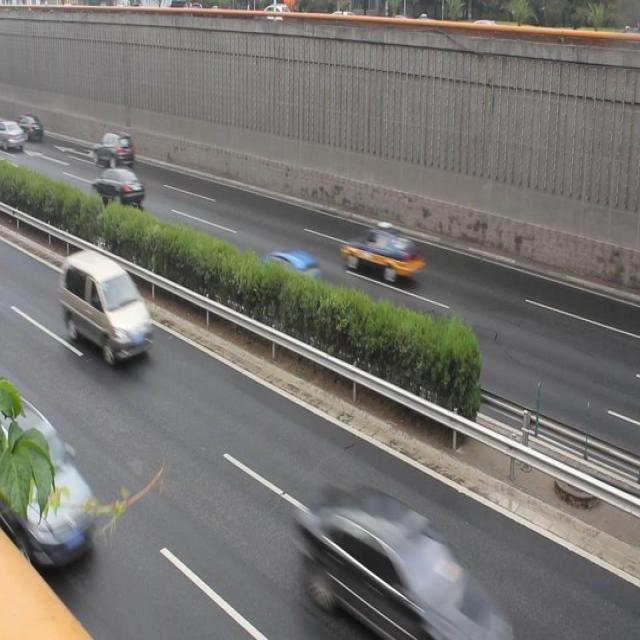car: (301, 483, 483, 640), (1, 403, 97, 569), (242, 248, 324, 316), (339, 225, 424, 285), (89, 166, 144, 210), (92, 131, 135, 168)
truck: (60, 248, 152, 361)
